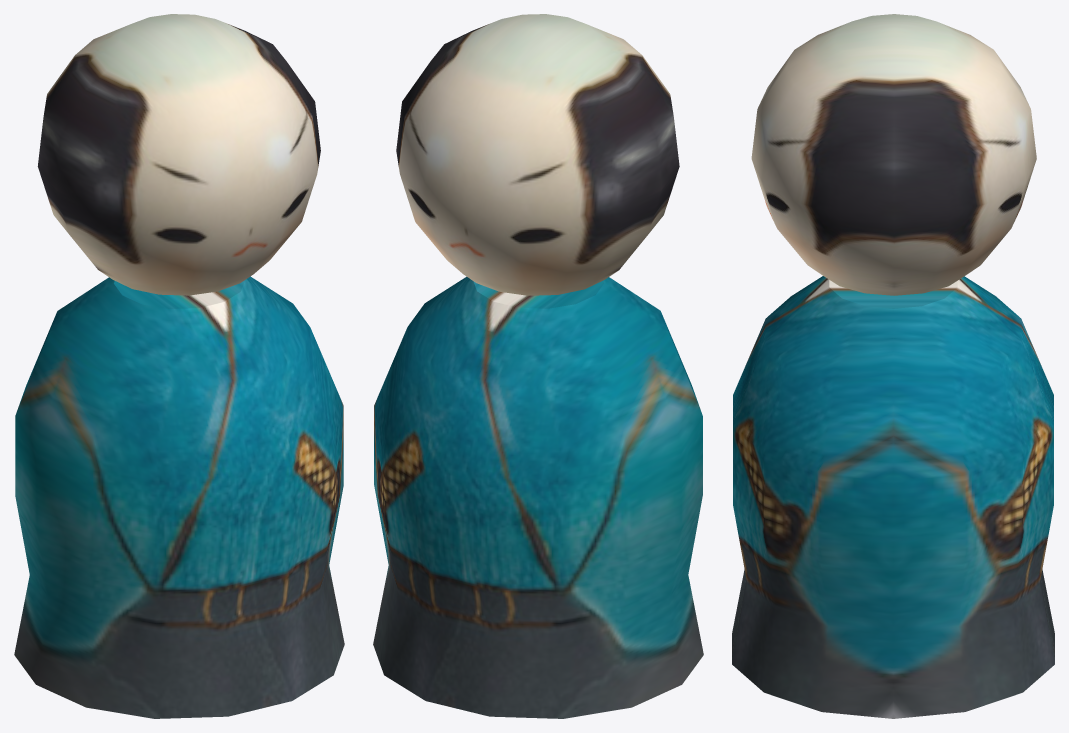
File: master.FBX
The picture shows the model from 3 angles, left to right: view 1: azimuth 30°, elevation 25°; view 2: azimuth 150°, elevation 25°; view 3: azimuth 270°, elevation 25°; orthographic projection.
Parts seen in each view (by area): view 1: Cylinder001, Sphere001; view 2: Cylinder001, Sphere001; view 3: Cylinder001, Sphere001.
Boxes of the visible parts, x1,y1,x2,y2 form: Cylinder001: [14, 276, 344, 718]; Sphere001: [37, 14, 320, 295]; Cylinder001: [373, 276, 703, 718]; Sphere001: [396, 14, 679, 295]; Cylinder001: [732, 276, 1054, 718]; Sphere001: [751, 14, 1036, 295].
Bounding box in the file's own units: 60.38 × 125 × 58.87.
